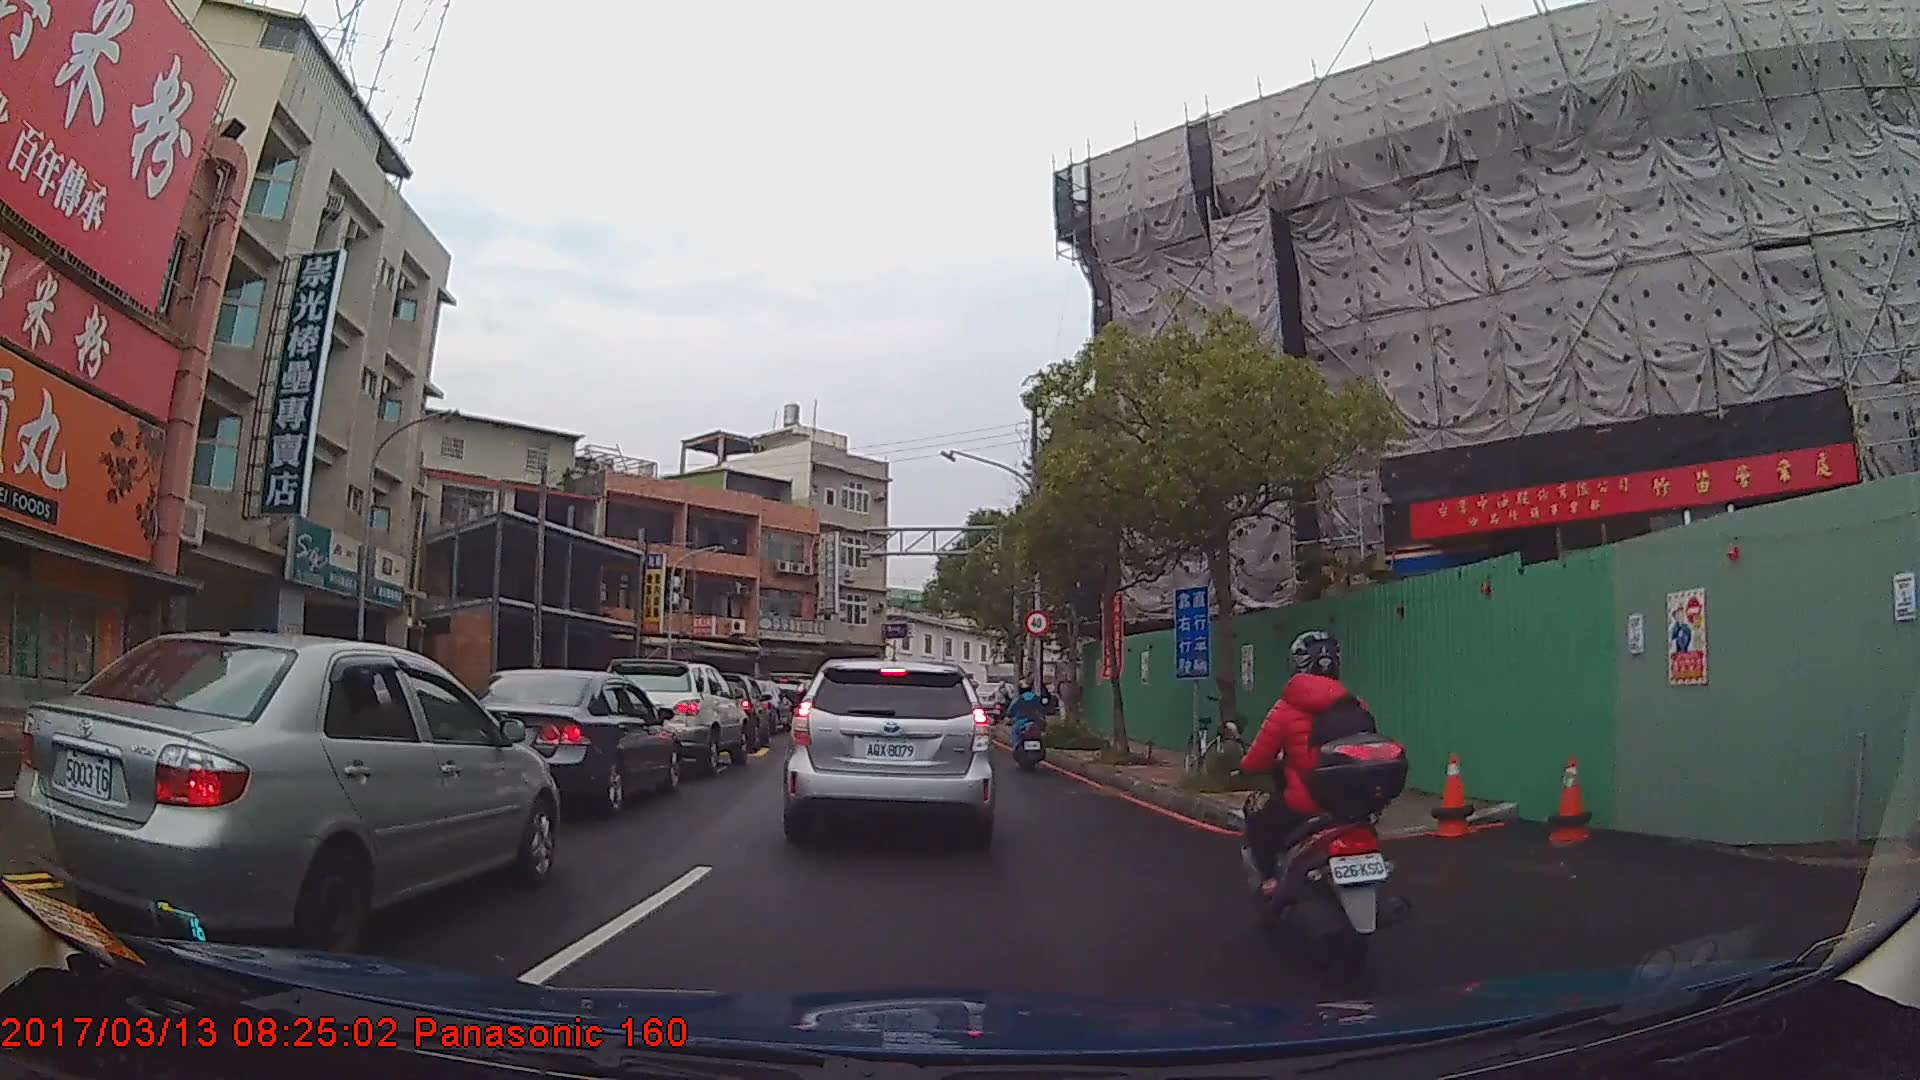rider: (1230, 630, 1424, 978), (1003, 682, 1050, 777)
vehicle: (13, 629, 561, 961), (780, 659, 996, 850), (439, 669, 681, 819), (599, 656, 748, 776)
